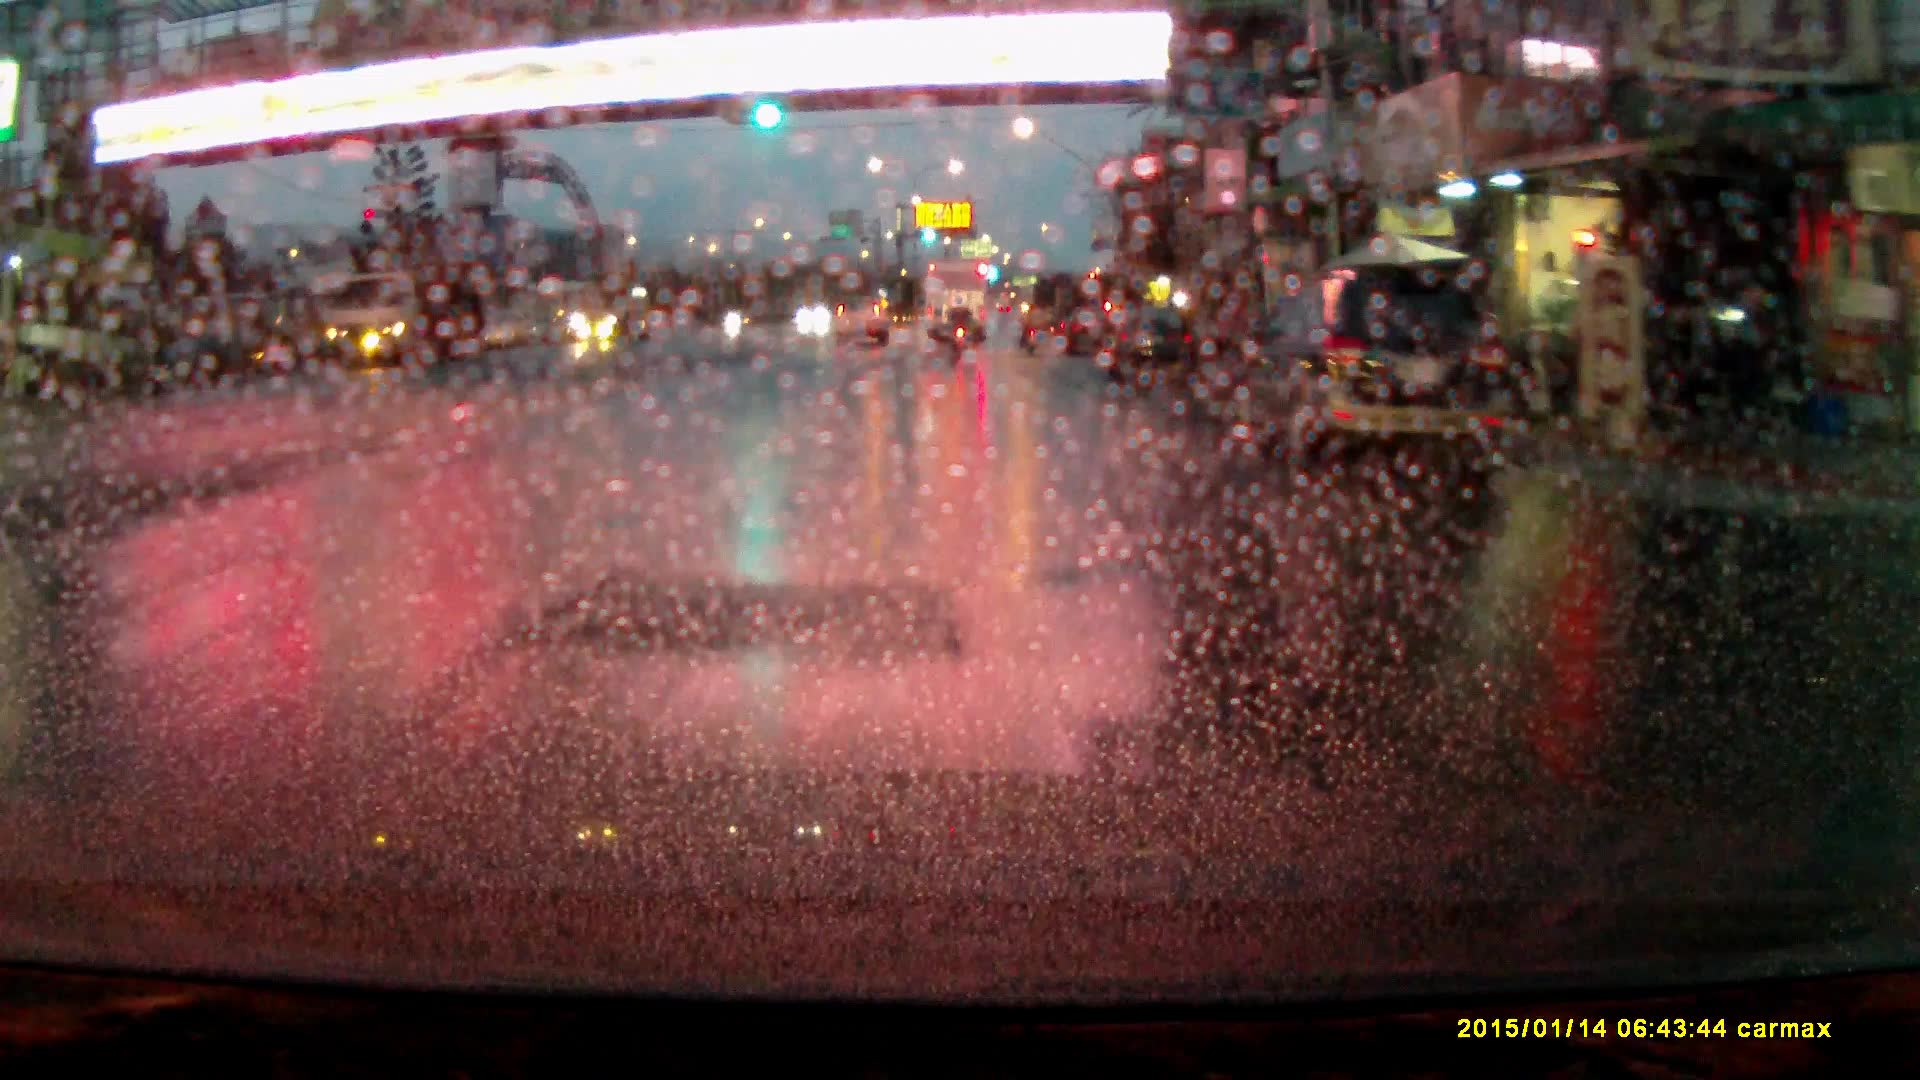rider: (948, 296, 974, 355)
vehicle: (1231, 267, 1514, 473), (1650, 290, 1795, 432), (319, 272, 478, 374), (1103, 308, 1198, 385), (569, 288, 661, 347), (922, 266, 992, 343), (1063, 308, 1124, 362), (834, 283, 891, 332)
